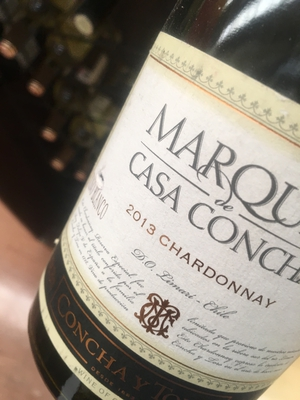marques de casa concha chardonnay: (30, 22, 298, 400)
